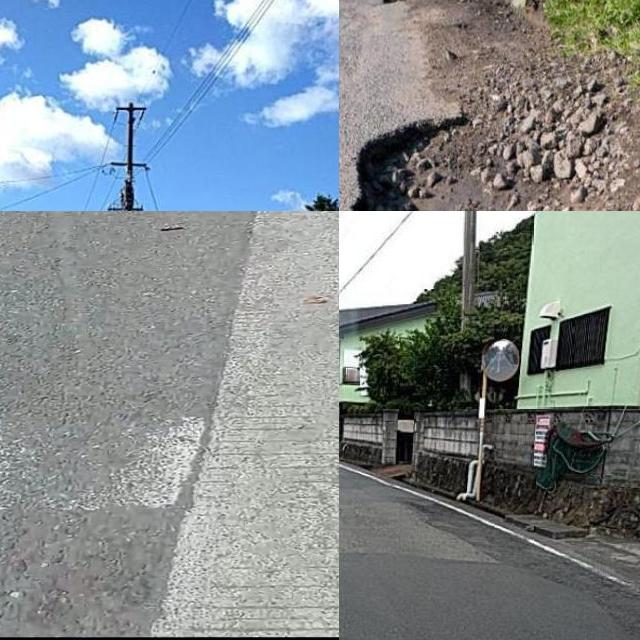Pinggir: (339, 90, 547, 211)
Sambungan: (161, 211, 339, 640), (339, 561, 638, 640)
